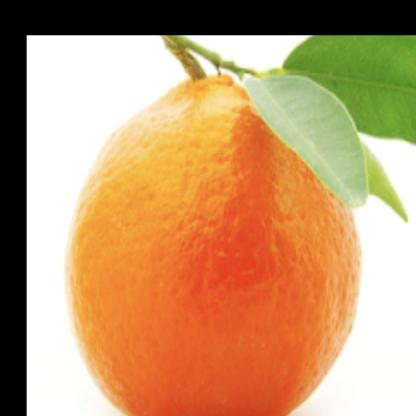fresh: (69, 70, 359, 416)
